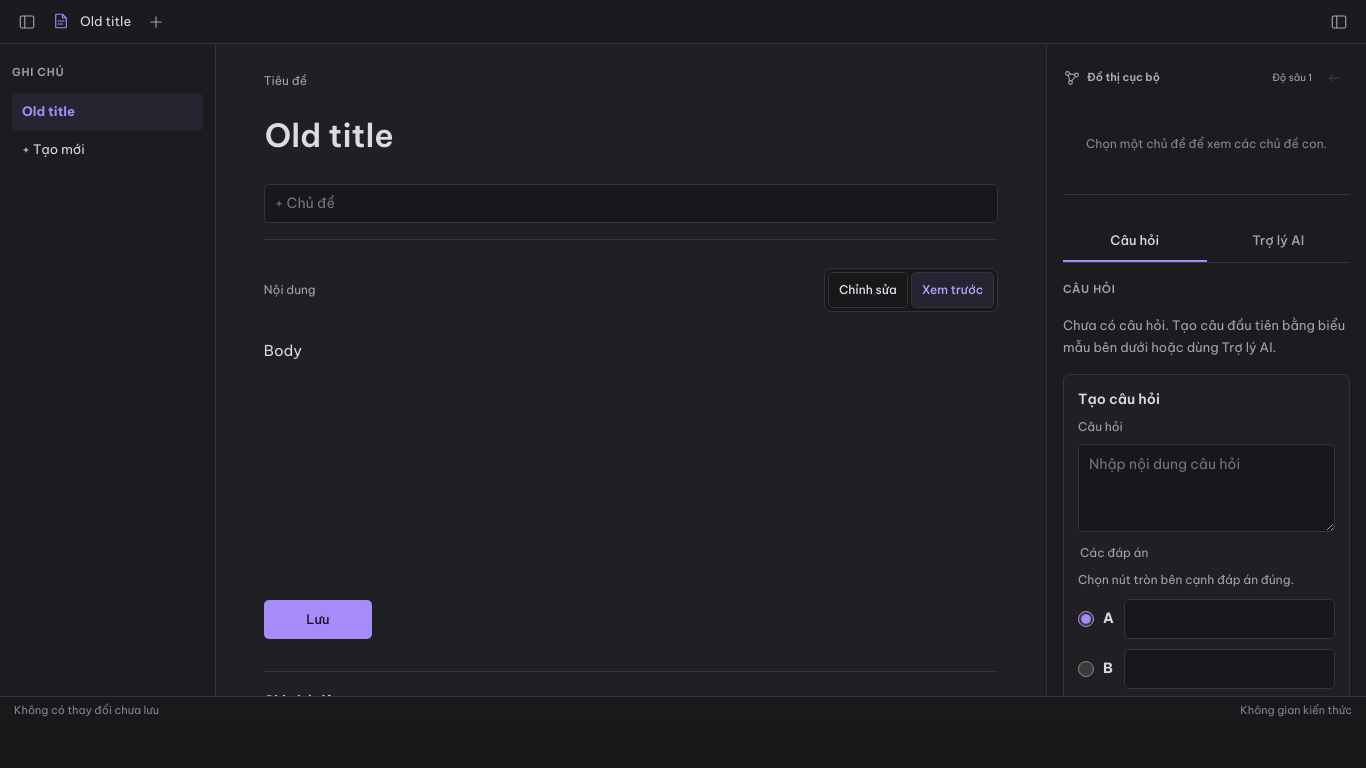
reloads saved note data and the sidebar list without replacing the document
Replace the text in the field labelled "Tiêu đề" with "New title" at x=631, y=135, box [264,101,998,170]
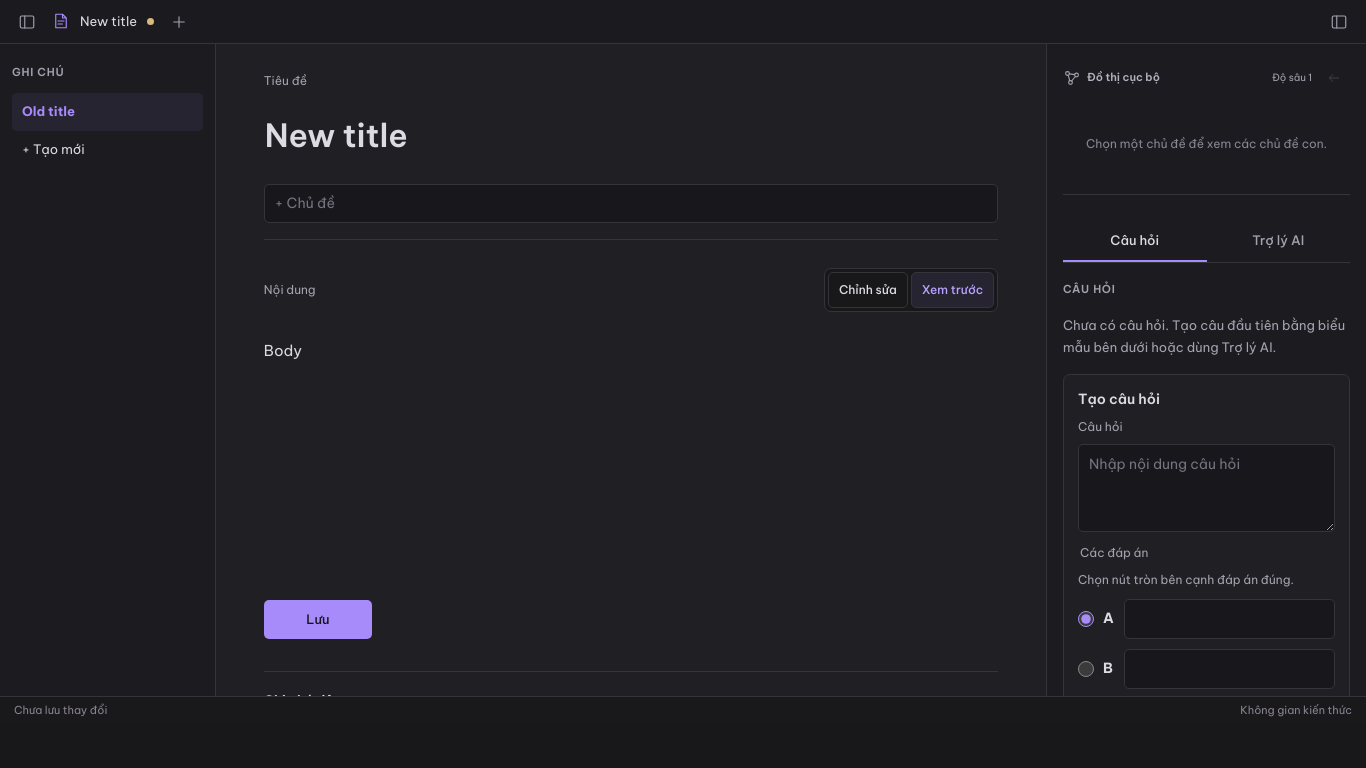
Click the button "Lưu" at x=318, y=620, box [264,600,372,639]
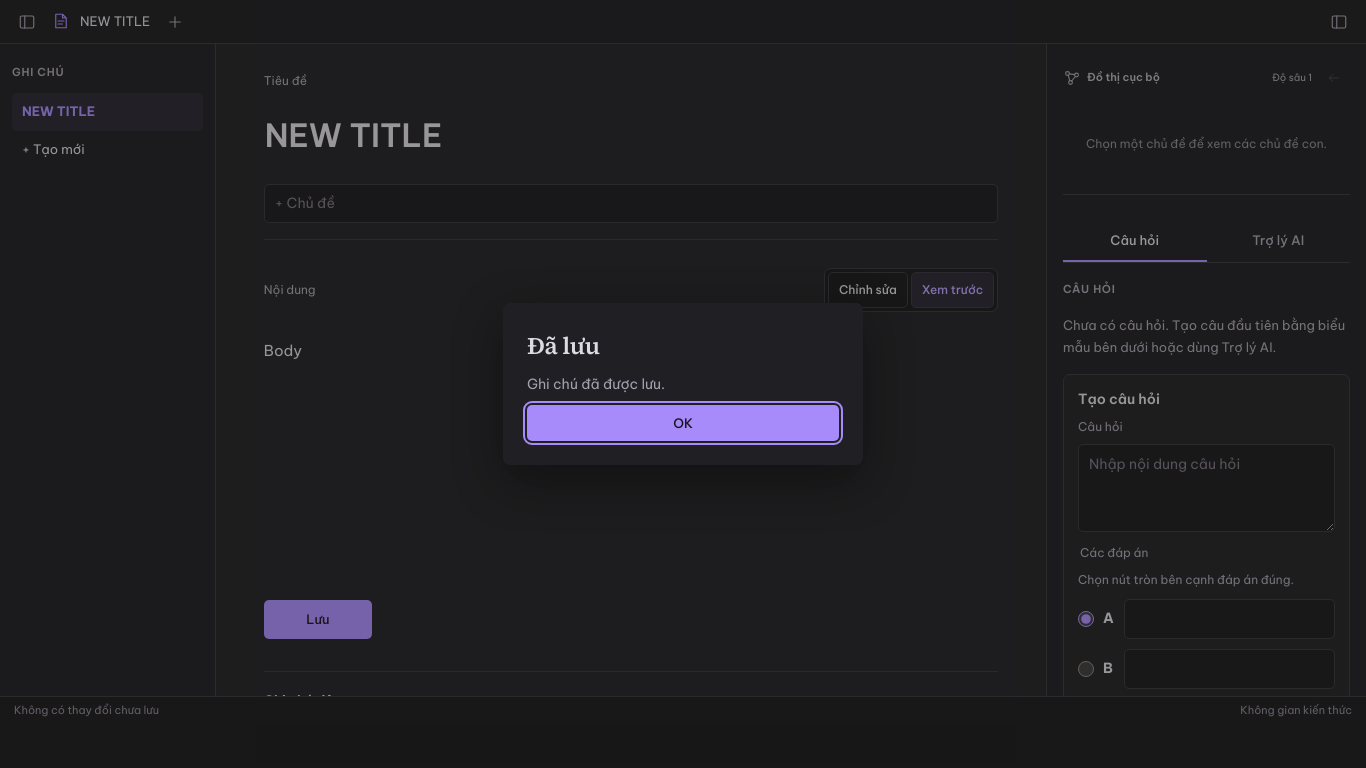
Expected: the dialog "Đã lưu" is shown, [503,303,863,466]
Expected: the link "NEW TITLE" is shown, [12,93,203,130]
